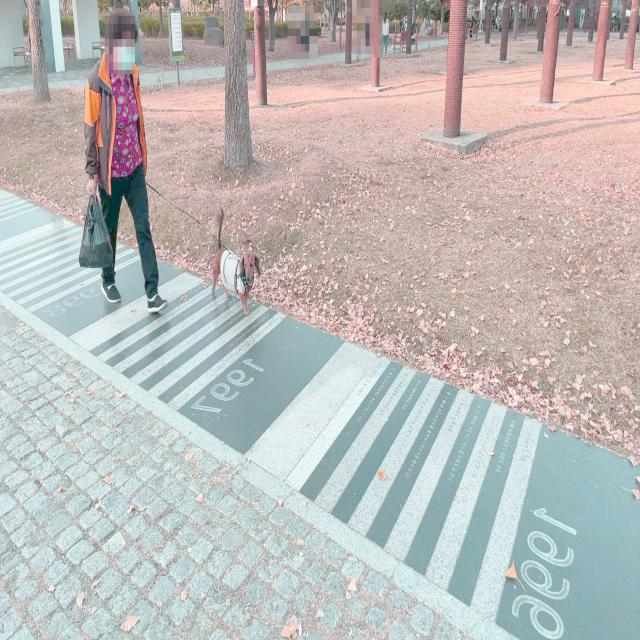Leashed_Dog: (136, 154, 261, 316)
